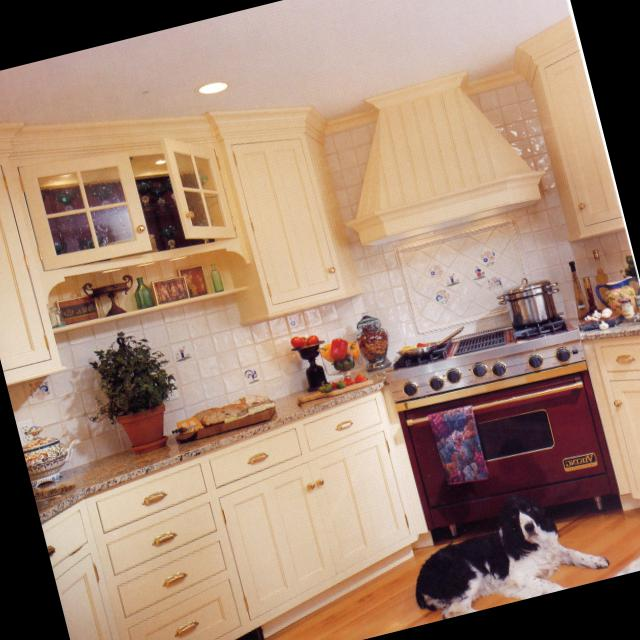cooker eye: (496, 274, 561, 325)
cupboard crop: (0, 105, 355, 382), (45, 397, 413, 640)
dog: (415, 497, 604, 618)
oven cloth: (405, 368, 613, 531)
plant -x: (91, 331, 173, 452)
stove burner: (394, 310, 568, 375)
